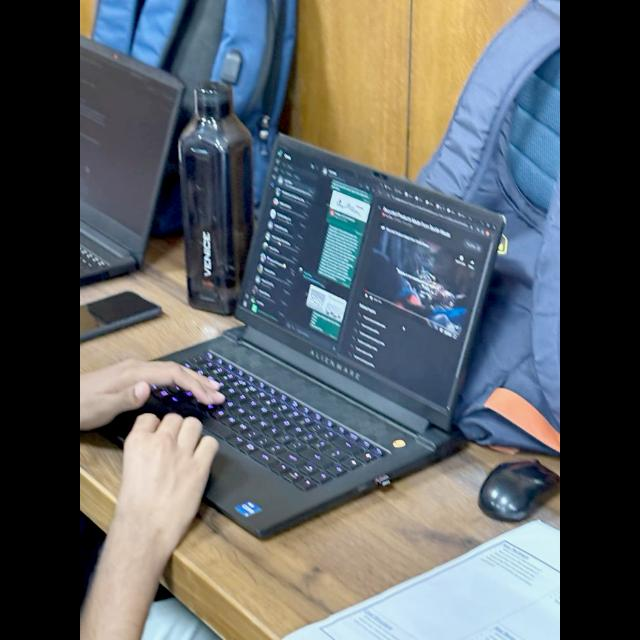laptop: (147, 135, 502, 537)
